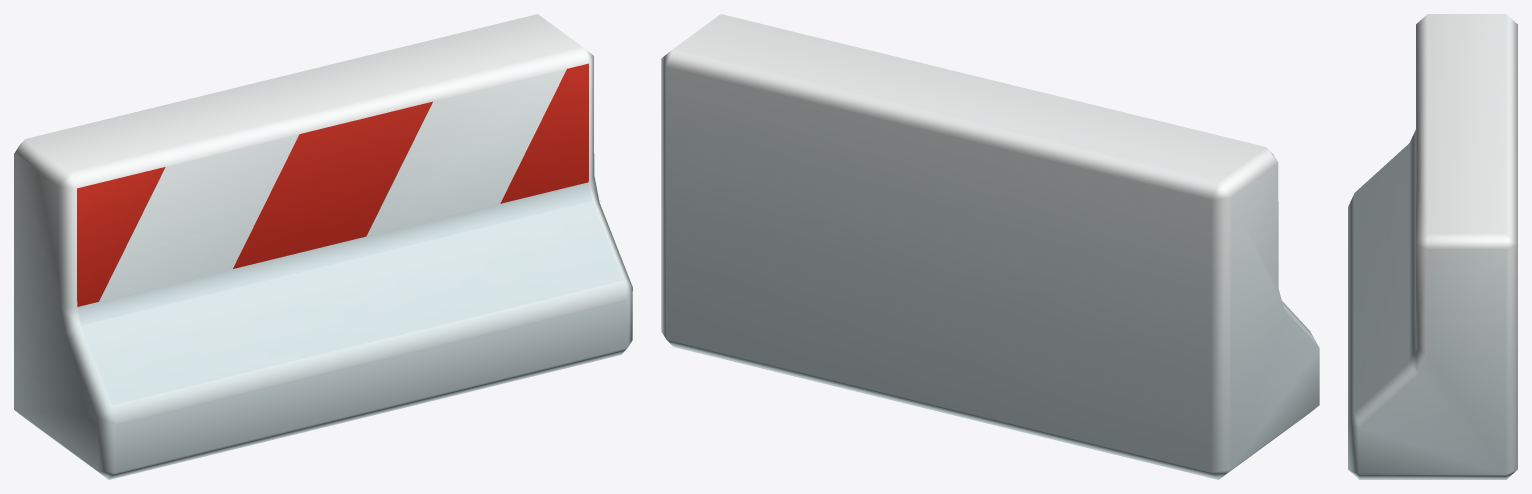
Rendered from barrier_concrete.fbx.
3 renders of one model, left to right at view 1: azimuth 30°, elevation 25°; view 2: azimuth 150°, elevation 25°; view 3: azimuth 270°, elevation 25°, orthographic. The views are drawn at different scales.
Visible parts, largest first — view 1: barrier_concrete; view 2: barrier_concrete; view 3: barrier_concrete.
Part boxes in pixels (x1,y1,x2,y2): barrier_concrete: [14, 14, 632, 479]; barrier_concrete: [661, 14, 1319, 479]; barrier_concrete: [1348, 14, 1517, 479].
Size of the model in its own units: 200 by 100 by 62.5.
